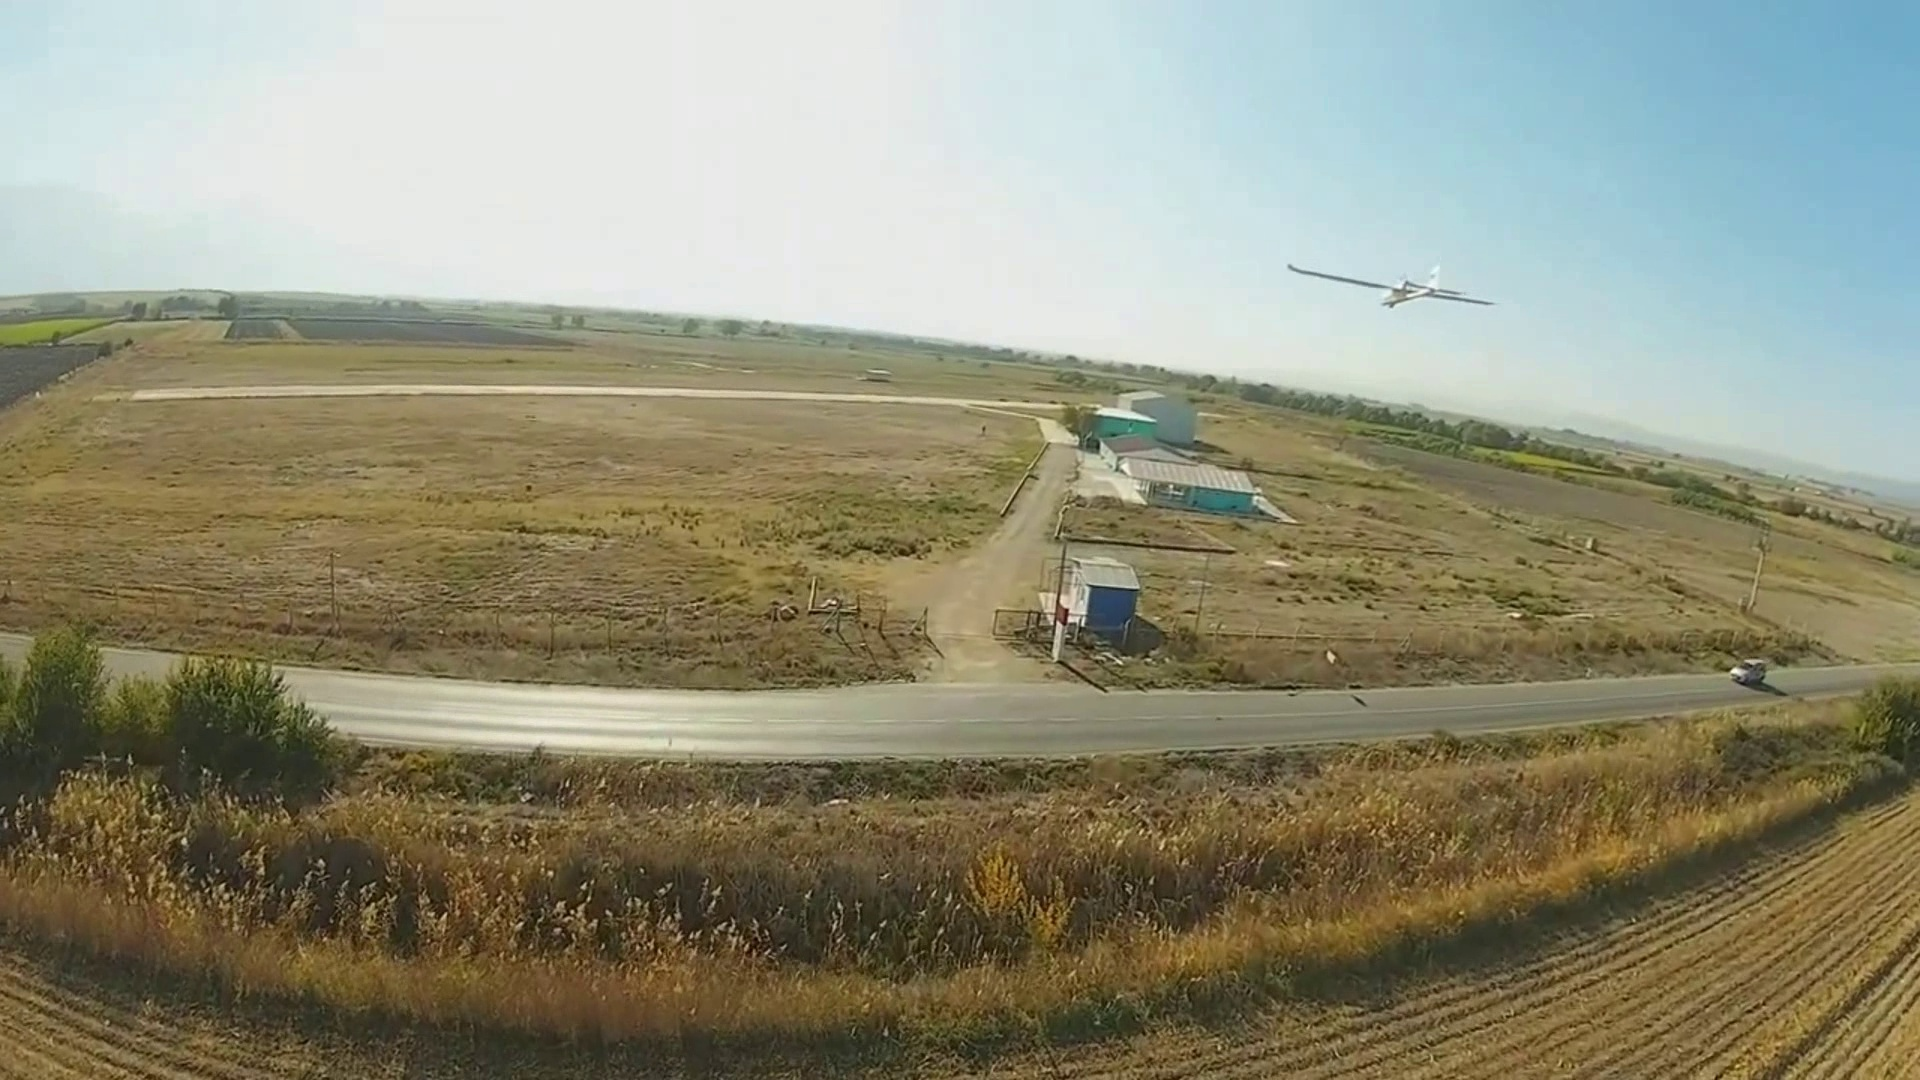airplane: (1285, 258, 1497, 311)
